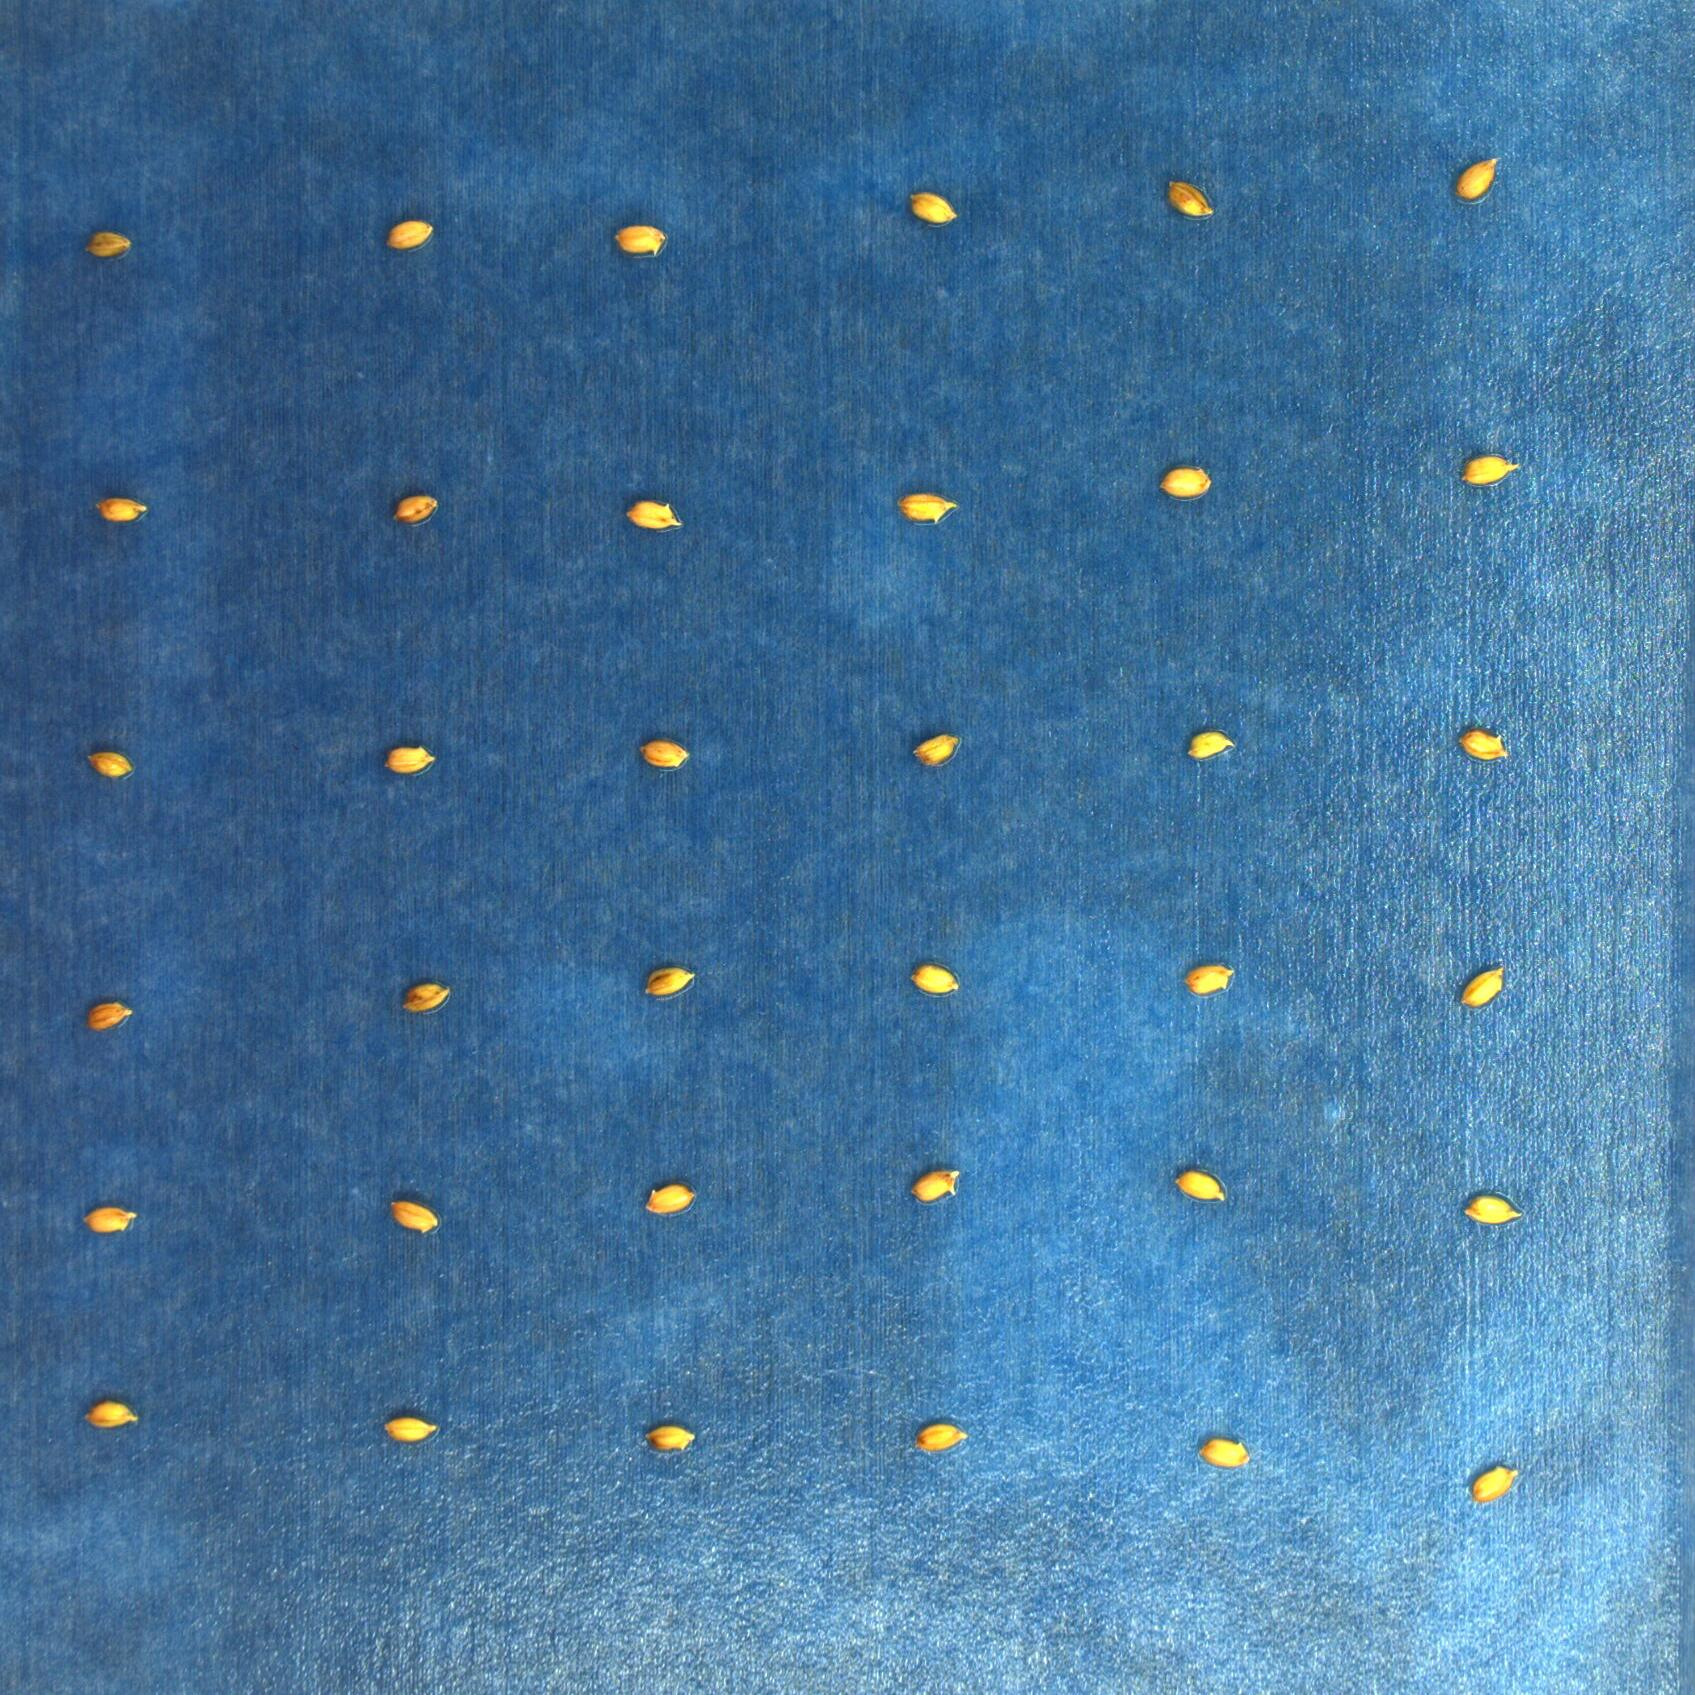not sprout: (903, 185, 962, 230), (1451, 158, 1503, 205), (1458, 452, 1523, 487), (640, 1181, 698, 1220), (1172, 1166, 1231, 1205), (894, 492, 962, 525), (396, 978, 452, 1017), (1454, 965, 1503, 1010), (1467, 1464, 1518, 1506), (910, 730, 967, 767), (1163, 180, 1215, 220), (78, 1400, 143, 1433), (1153, 466, 1215, 500), (1461, 1191, 1523, 1225), (905, 1167, 962, 1203), (638, 736, 691, 775), (391, 1198, 445, 1236), (1194, 1437, 1254, 1470), (622, 500, 689, 529), (615, 220, 667, 258), (92, 490, 149, 525), (913, 1420, 967, 1456), (380, 1414, 439, 1447), (636, 1425, 702, 1454), (1183, 962, 1234, 1000), (640, 965, 694, 1000), (1451, 730, 1510, 761), (380, 744, 438, 775), (81, 1205, 138, 1236), (82, 750, 137, 782), (78, 1000, 129, 1034), (1183, 730, 1239, 761), (914, 962, 962, 997), (390, 497, 442, 528), (386, 220, 435, 250), (82, 230, 126, 261)
